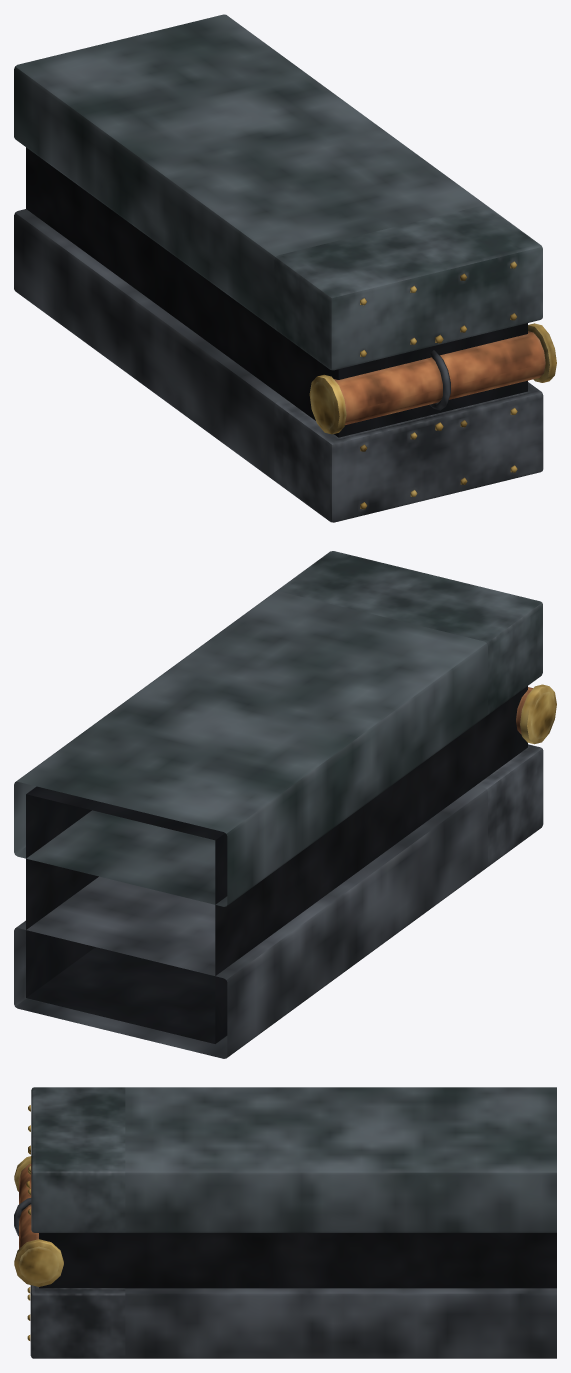
Rendered from ClockLung_Fill_B.fbx.
The picture shows the model from 3 angles, top to bottom: view 1: azimuth 30°, elevation 25°; view 2: azimuth 150°, elevation 25°; view 3: azimuth 270°, elevation 25°; orthographic projection. The views are drawn at different scales.
Visible parts, largest first — view 1: ClockLung_Fill_B; view 2: ClockLung_Fill_B; view 3: ClockLung_Fill_B.
Part boxes in pixels (<box>): ClockLung_Fill_B: <box>14,14,556,522</box>; ClockLung_Fill_B: <box>14,551,556,1058</box>; ClockLung_Fill_B: <box>14,1087,556,1358</box>.
Size of the model in its own units: 1 by 0.985 by 2.58.
